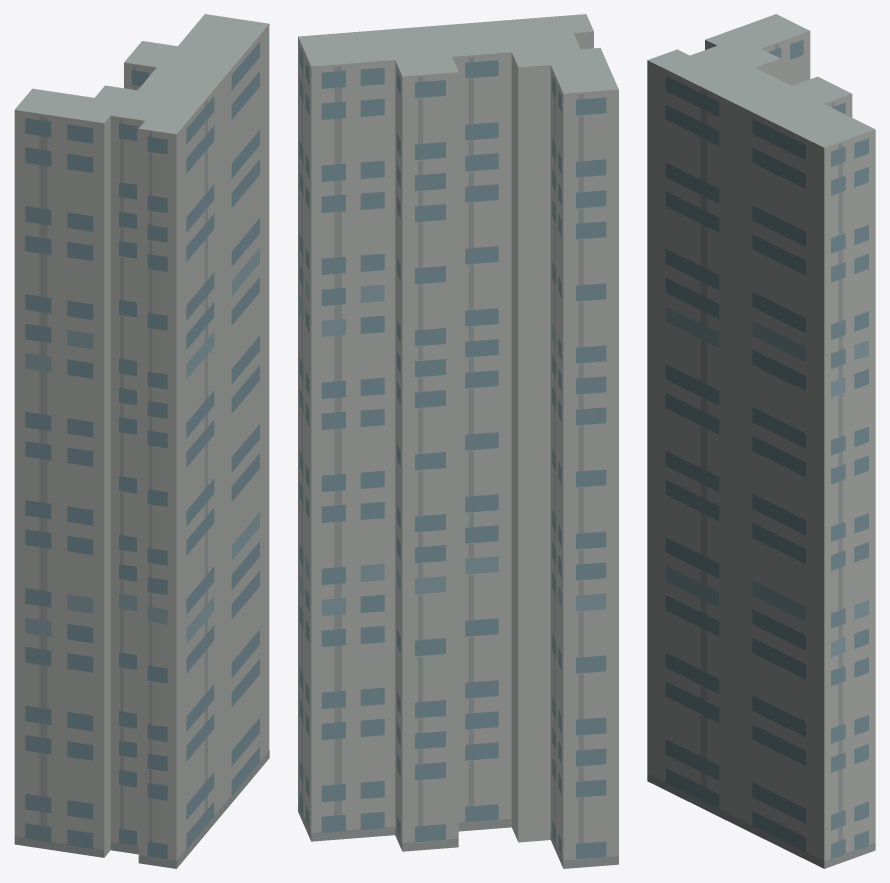
File: residential-ccdc08f0-c083-461d-82eb-330dea1de24e.glb
3 renders of one model, left to right at view 1: azimuth 30°, elevation 25°; view 2: azimuth 150°, elevation 25°; view 3: azimuth 270°, elevation 25°, orthographic. The views are drawn at different scales.
Visible parts, largest first — view 1: residential-ccdc08f0-c083-461d-82eb-330dea1de24e.tmp; view 2: residential-ccdc08f0-c083-461d-82eb-330dea1de24e.tmp; view 3: residential-ccdc08f0-c083-461d-82eb-330dea1de24e.tmp.
Part boxes in pixels (left/top/right/bottom): residential-ccdc08f0-c083-461d-82eb-330dea1de24e.tmp: left=14, top=14, right=269, bottom=868; residential-ccdc08f0-c083-461d-82eb-330dea1de24e.tmp: left=298, top=14, right=618, bottom=868; residential-ccdc08f0-c083-461d-82eb-330dea1de24e.tmp: left=647, top=14, right=875, bottom=868.
Size of the model in its own units: 37.43 by 94 by 26.96.
